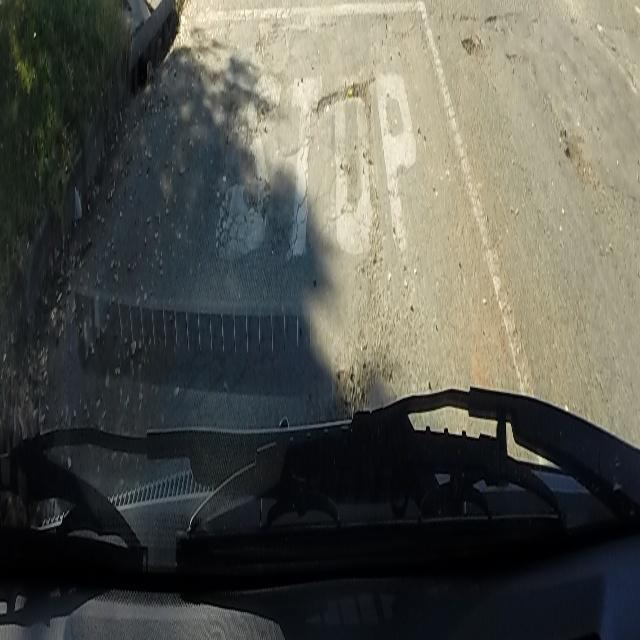pothole: (316, 80, 370, 120), (564, 141, 584, 170), (461, 32, 476, 58)
